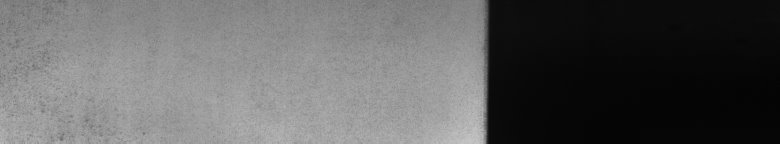ib: (4, 40, 93, 128)
